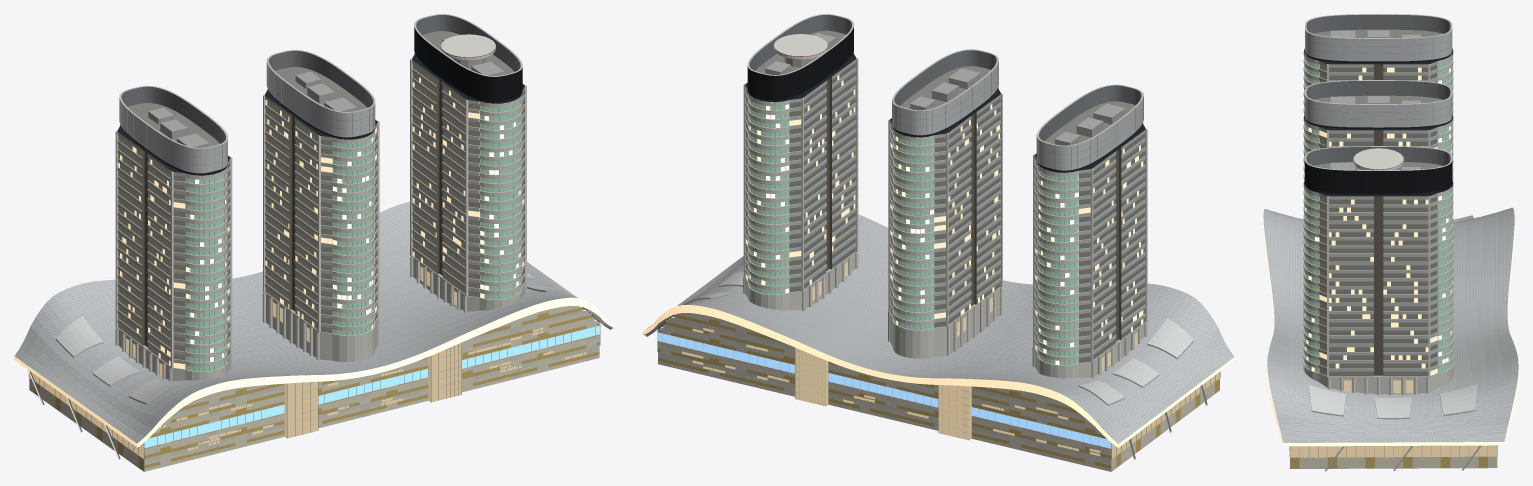
File: centaurus.glb
3 views of the same model, side by side, from view 1: azimuth 30°, elevation 25°; view 2: azimuth 150°, elevation 25°; view 3: azimuth 270°, elevation 25° (orthographic). The views are drawn at different scales.
Visible parts, largest first — view 1: m_mall_roof, m_broad_spandrel, m_broad_glass, m_barrel_spandrel, m_barrel_glass, m_panel_cream, m_pilaster, m_mullion, m_crown_metal, m_panel_ochre, m_tower_base, m_crown_inner (+15 smaller); view 2: m_mall_roof, m_broad_spandrel, m_broad_glass, m_barrel_spandrel, m_barrel_glass, m_panel_cream, m_pilaster, m_crown_metal, m_panel_ochre, m_mullion, m_tower_base, m_crown_inner (+15 smaller); view 3: m_mall_roof, m_broad_glass, m_broad_spandrel, m_crown_metal, m_crown_inner, m_barrel_spandrel, m_hotel_crown, m_barrel_glass, m_skylight, m_entry_glass, m_face_slot, m_lit_broad (+13 smaller).
Boxes of the visible parts, box(x1,y1,x2,y2) form: m_mall_roof: box(14, 201, 609, 443); m_broad_spandrel: box(117, 60, 524, 369); m_broad_glass: box(118, 64, 524, 364); m_barrel_spandrel: box(120, 94, 522, 371); m_barrel_glass: box(186, 101, 520, 371); m_panel_cream: box(29, 306, 599, 471); m_pilaster: box(115, 59, 526, 381); m_mullion: box(28, 99, 600, 459); m_crown_metal: box(119, 14, 522, 173); m_panel_ochre: box(34, 307, 599, 471); m_tower_base: box(29, 256, 525, 471); m_crown_inner: box(121, 15, 520, 143); m_mall_roof: box(647, 214, 1234, 443); m_broad_spandrel: box(745, 59, 1145, 363); m_broad_glass: box(746, 63, 1144, 362); m_barrel_spandrel: box(748, 51, 1143, 365); m_barrel_glass: box(749, 99, 1078, 365); m_panel_cream: box(658, 313, 1214, 471); m_pilaster: box(743, 58, 1147, 378); m_crown_metal: box(747, 14, 1143, 170); m_panel_ochre: box(658, 314, 1219, 468); m_mullion: box(657, 94, 1220, 459); m_tower_base: box(662, 252, 1219, 471); m_crown_inner: box(749, 15, 1141, 141); m_mall_roof: box(1263, 207, 1518, 442); m_broad_glass: box(1319, 64, 1437, 376); m_broad_spandrel: box(1319, 61, 1438, 376); m_crown_metal: box(1305, 14, 1452, 170); m_crown_inner: box(1306, 14, 1450, 165); m_barrel_spandrel: box(1303, 51, 1453, 373); m_hotel_crown: box(1305, 161, 1452, 193); m_barrel_glass: box(1305, 58, 1452, 372); m_skylight: box(1308, 215, 1478, 419); m_entry_glass: box(1290, 442, 1496, 457); m_face_slot: box(1374, 64, 1383, 375); m_lit_broad: box(1319, 67, 1437, 375).
Size of the model in its own units: 187 by 110 by 93.35.
30 materials, 1 textured.
